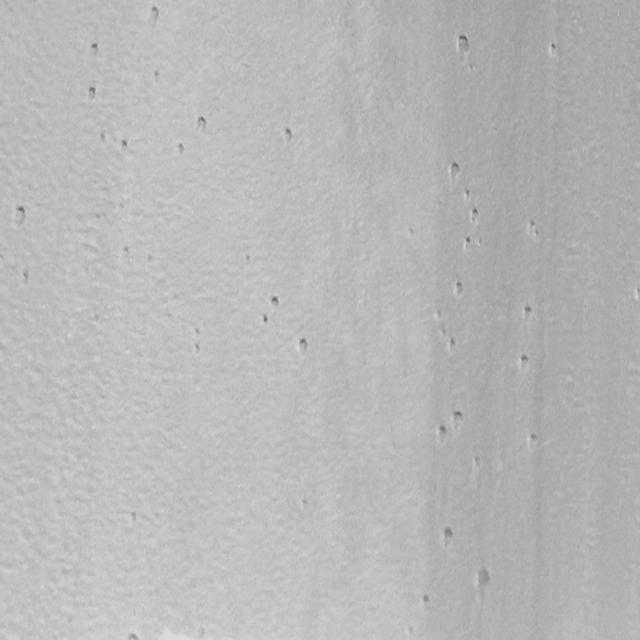pin holes: (472, 565, 494, 598), (452, 33, 472, 62), (8, 203, 28, 230), (144, 2, 164, 28), (438, 526, 458, 552), (442, 161, 462, 186), (276, 124, 296, 147), (192, 115, 211, 139), (431, 424, 449, 448), (524, 217, 542, 240), (294, 335, 310, 358), (450, 408, 466, 430), (82, 84, 98, 105), (518, 303, 533, 324), (451, 280, 466, 301), (264, 295, 280, 313), (514, 353, 528, 373), (172, 140, 187, 158), (86, 42, 100, 61), (544, 41, 558, 60), (115, 136, 130, 153), (526, 432, 540, 450), (16, 270, 30, 288), (467, 208, 480, 227), (418, 592, 432, 609), (443, 336, 456, 354), (118, 242, 131, 260), (120, 628, 139, 640), (240, 252, 254, 268), (460, 234, 473, 251), (189, 342, 202, 358), (257, 311, 270, 327), (149, 68, 161, 84), (95, 130, 107, 146), (432, 308, 444, 322), (470, 454, 481, 469), (632, 287, 640, 304), (462, 189, 472, 202)
